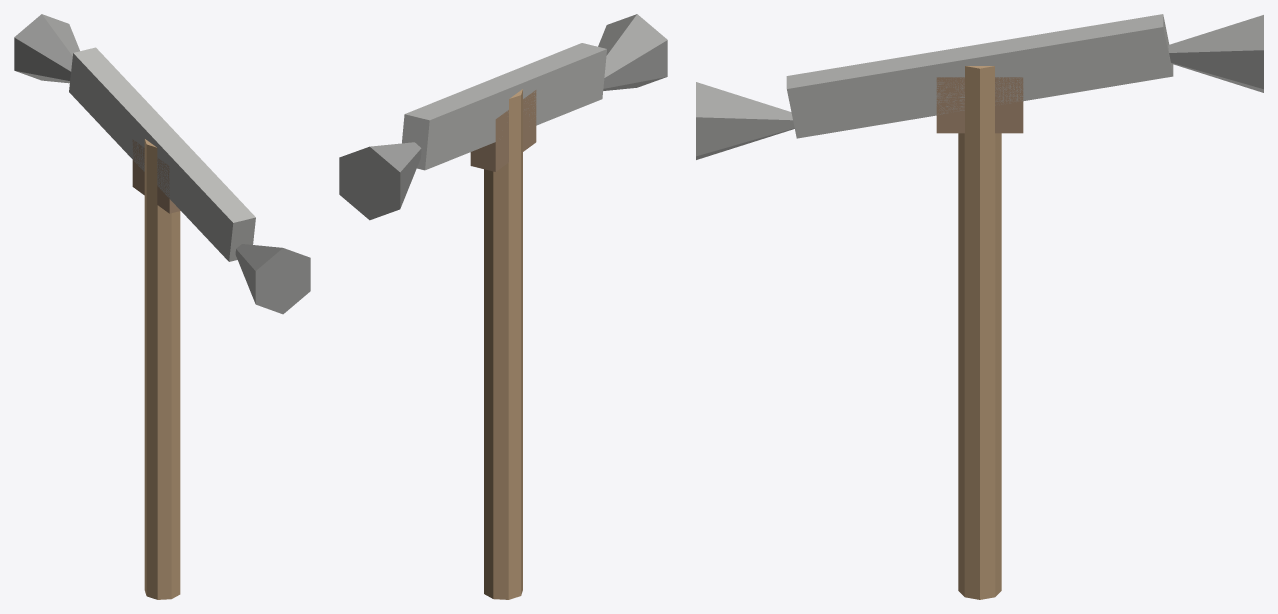
Rendered from stone_pickaxe.glb.
3 views of the same model, side by side, from view 1: azimuth 30°, elevation 25°; view 2: azimuth 150°, elevation 25°; view 3: azimuth 270°, elevation 25° (orthographic). The views are drawn at different scales.
Visible parts, largest first — view 1: stone_pickaxe; view 2: stone_pickaxe; view 3: stone_pickaxe.
Boxes of the visible parts, x1,y1,x2,y2 form: stone_pickaxe: (14,14,310,599); stone_pickaxe: (339,14,667,599); stone_pickaxe: (696,14,1263,599).
Size of the model in its own units: 0.1212 by 1.03 by 0.92.
